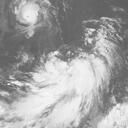cyclone: (14, 0, 41, 29)
